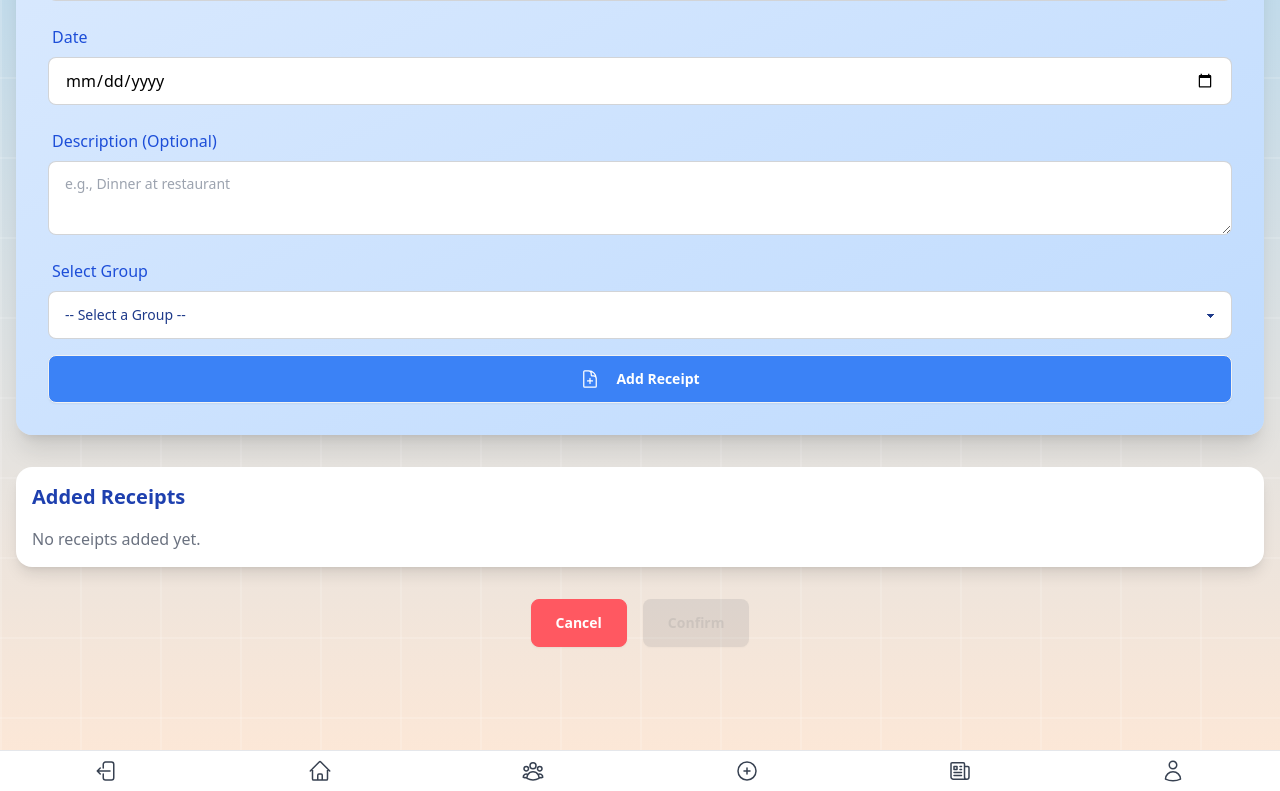
Test: CreateBill Component › opens cancel confirmation modal when cancel button is clicked
This screenshot has width=1280, height=791.
(page scrolled)
Click the button "Cancel" at (579, 623), box 530,599 -> 627,647
(page scrolled)
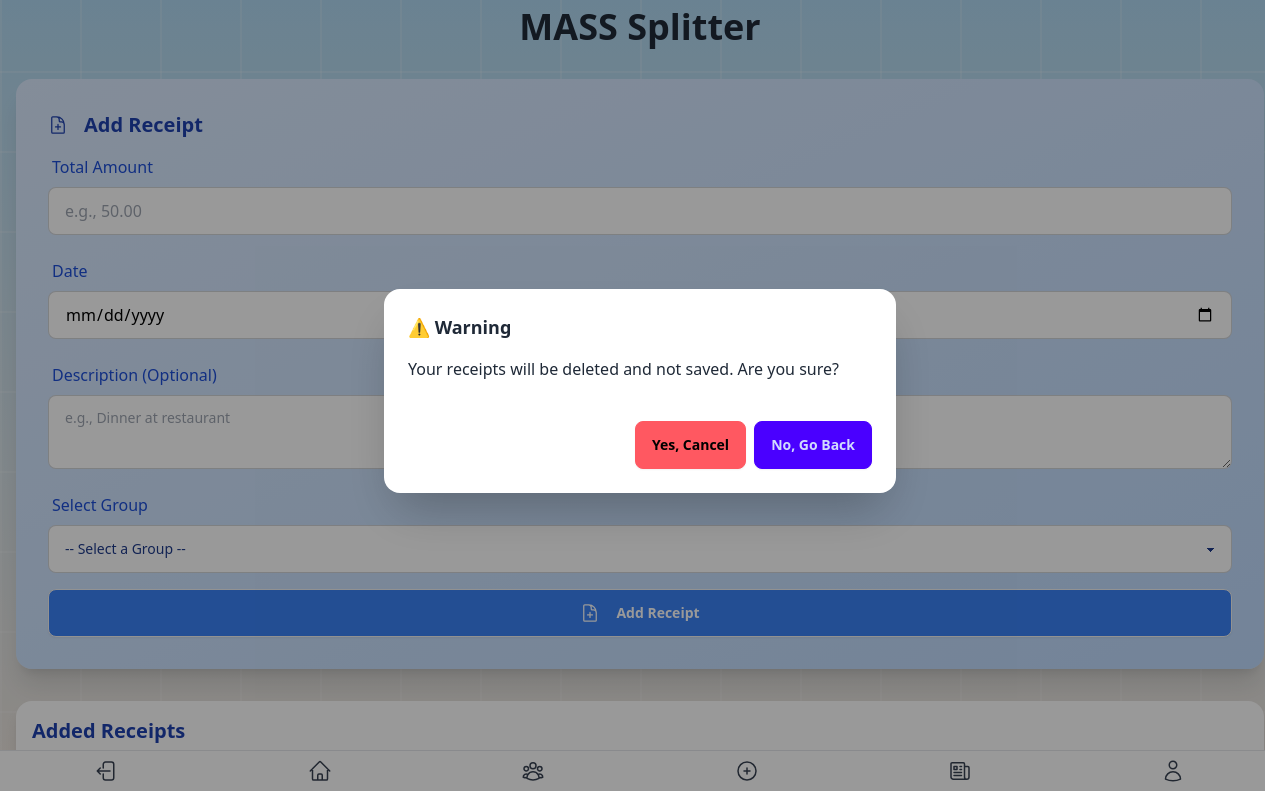
Now the text "Your receipts will be deleted and not saved. Are you sure?" is shown, box 408,358 -> 839,380
